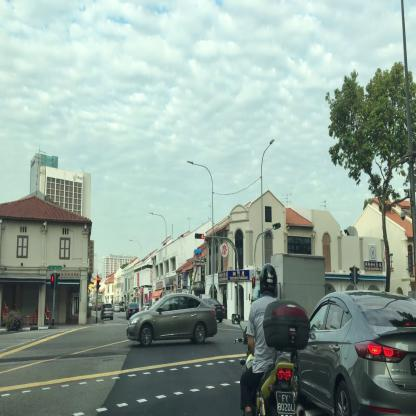red_traffic_light: (196, 233, 204, 238), (96, 277, 98, 288)
